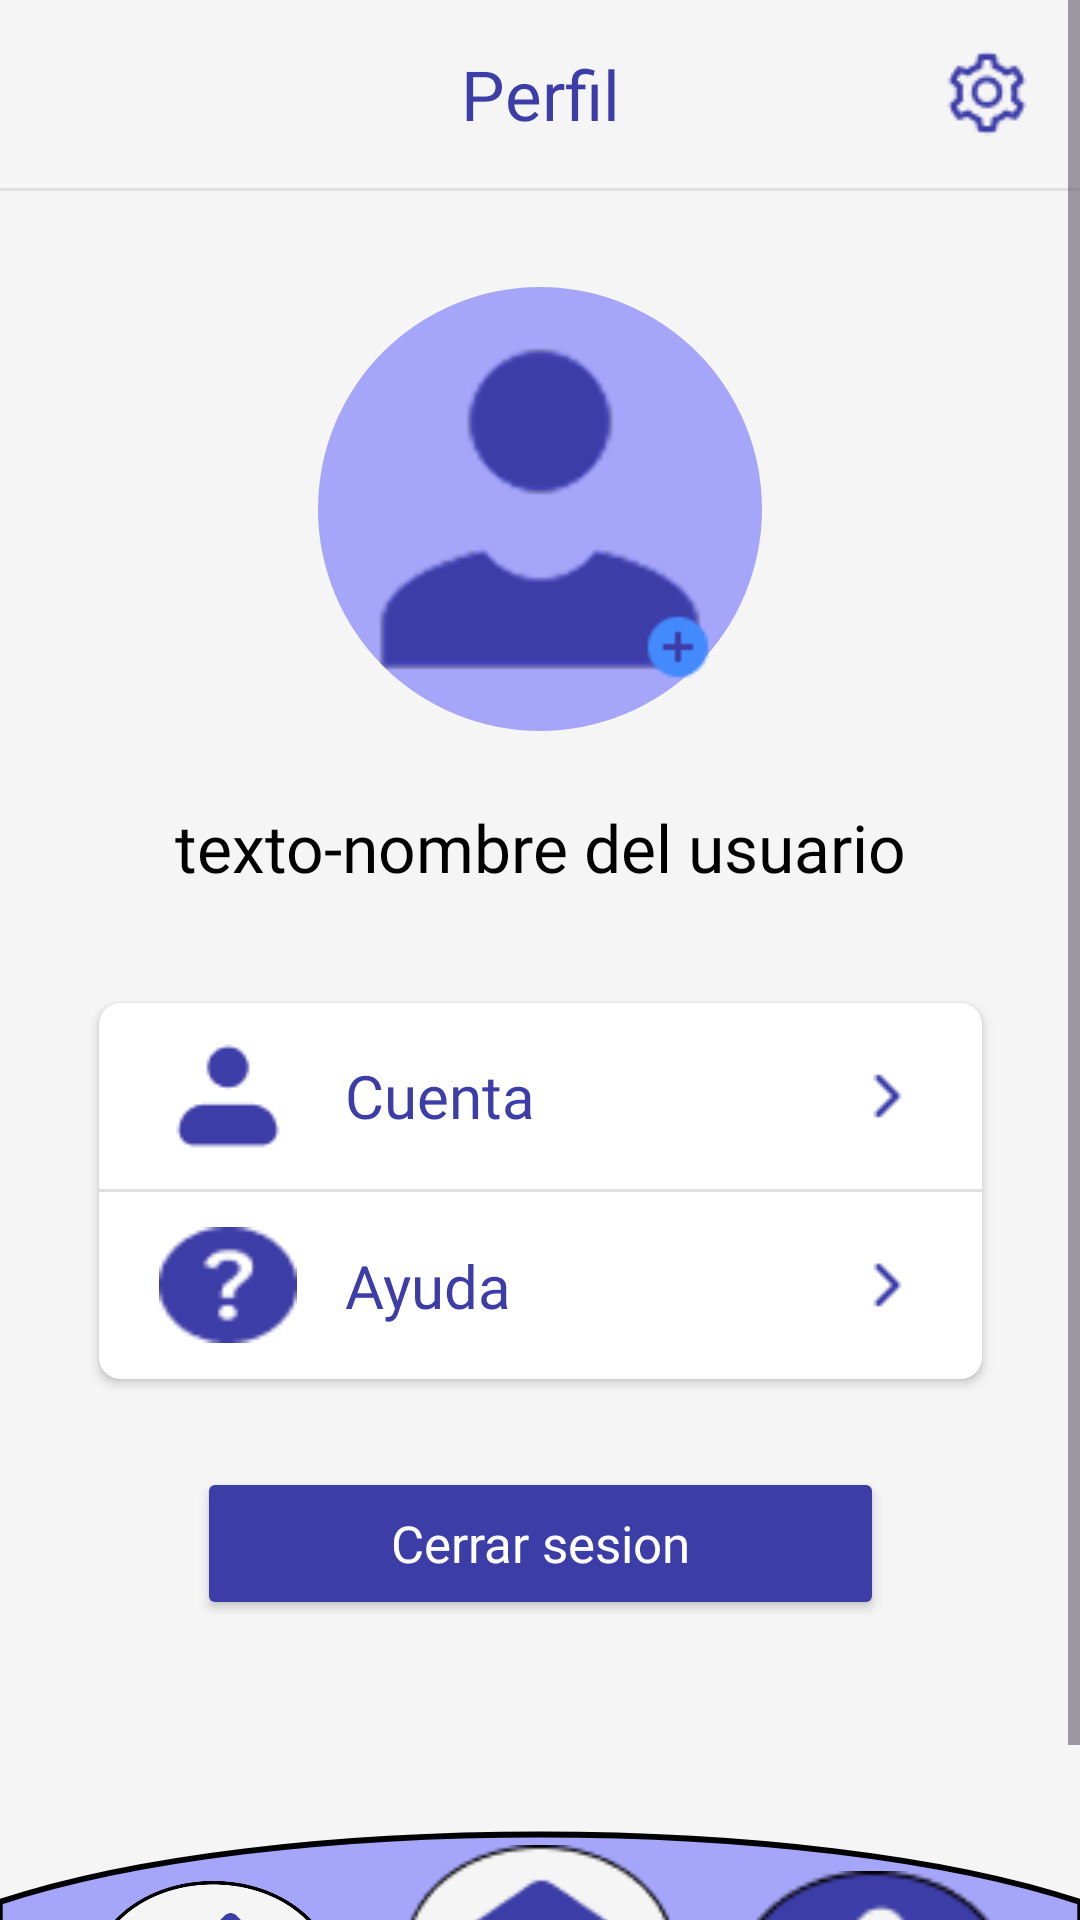

Icons on this 1080 x 1920 Android screen, each with the point to tap as point (x, y):
Ajustes: point (987, 93)
